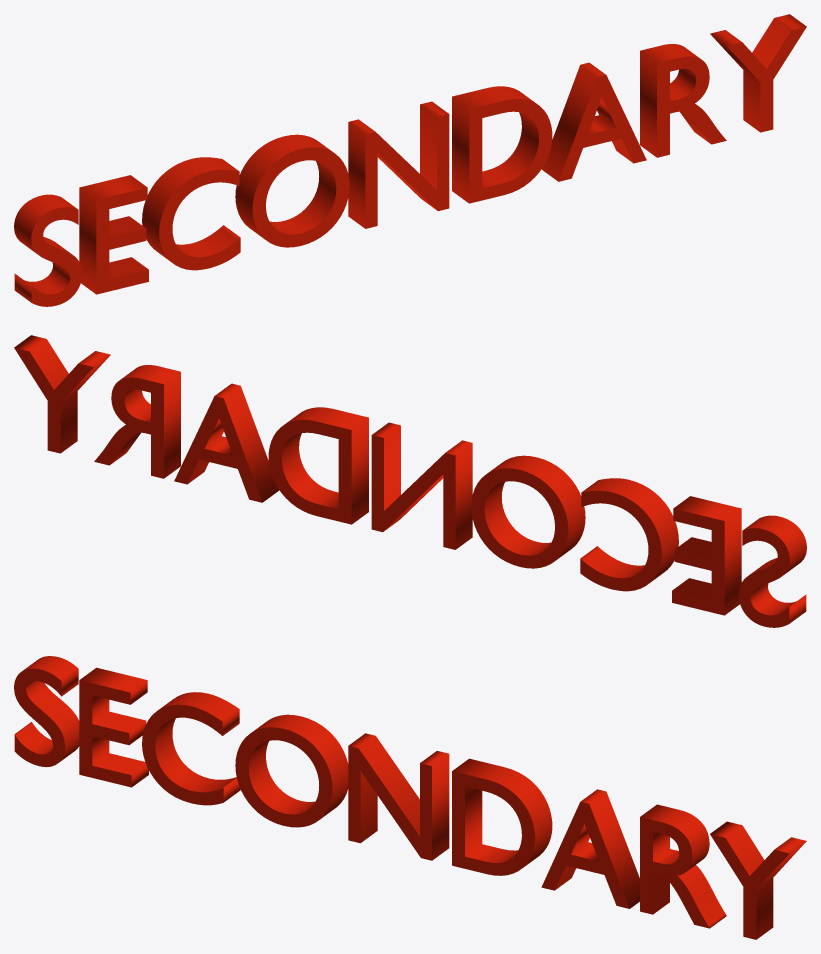
3 views of the same model, one above another, from view 1: azimuth 30°, elevation 25°; view 2: azimuth 150°, elevation 25°; view 3: azimuth 330°, elevation 25° (orthographic).
Visible parts, largest first — view 1: Text.002; view 2: Text.002; view 3: Text.002.
Part boxes in pixels (x1,y1,x2,y2): Text.002: (14,14,806,306); Text.002: (14,335,806,627); Text.002: (14,656,806,939).
Bounding box in the file's own units: 1.26 × 0.1505 × 0.0481.
